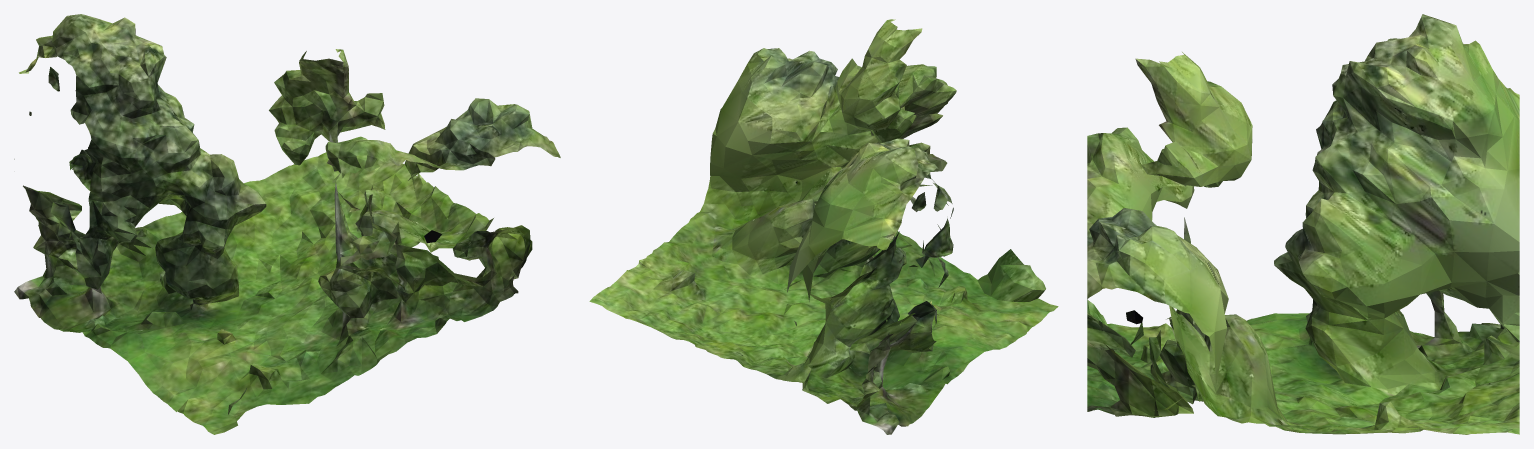
3 views of the same model, side by side, from view 1: azimuth 30°, elevation 25°; view 2: azimuth 150°, elevation 25°; view 3: azimuth 270°, elevation 25° (orthographic). The views are drawn at different scales.
Size of the model in its own units: 26.11 by 23.88 by 26.11.
6 materials, 6 textured.
